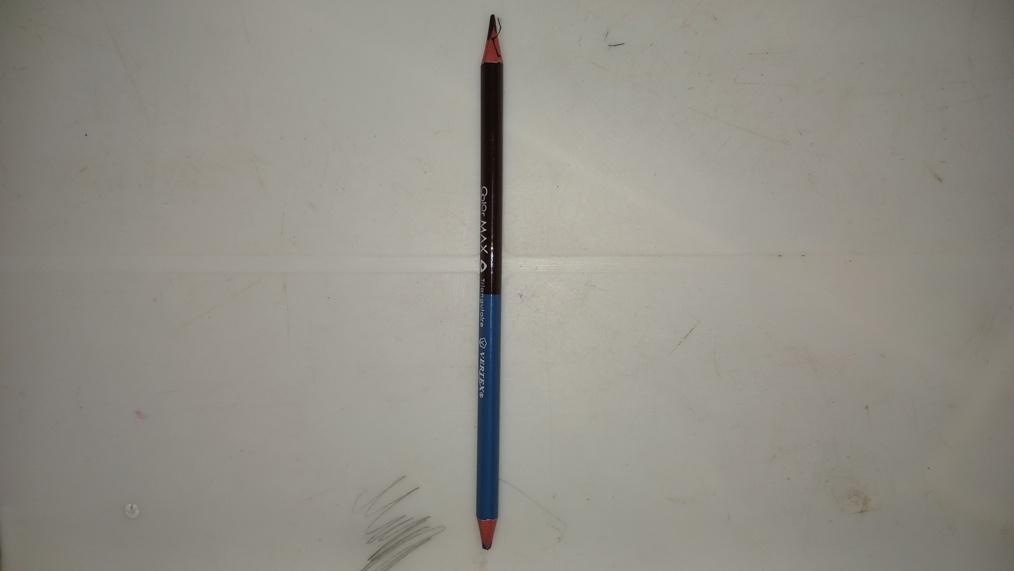Pencil: (473, 14, 502, 552)
